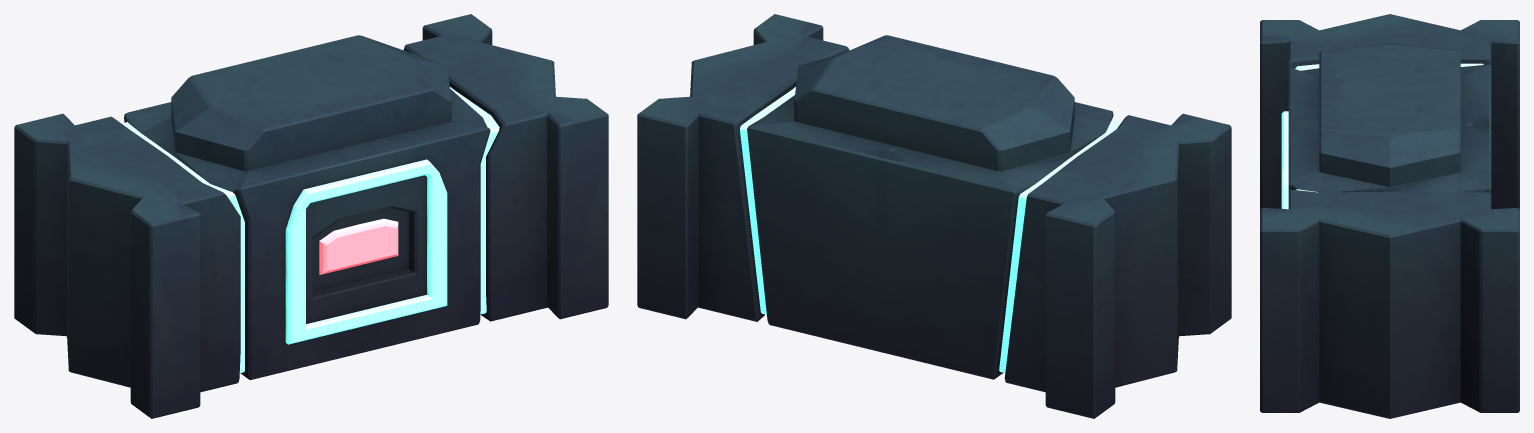
The model's file is Bau.fbx.
3 views of the same model, side by side, from view 1: azimuth 30°, elevation 25°; view 2: azimuth 150°, elevation 25°; view 3: azimuth 270°, elevation 25° (orthographic). The views are drawn at different scales.
Parts seen in each view (by area): view 1: Bau; view 2: Bau; view 3: Bau.
Part boxes in pixels (x1,y1,x2,y2): Bau: [14, 14, 608, 418]; Bau: [637, 14, 1231, 418]; Bau: [1260, 14, 1519, 418].
Bounding box in the file's own units: 261 × 119 × 128.
